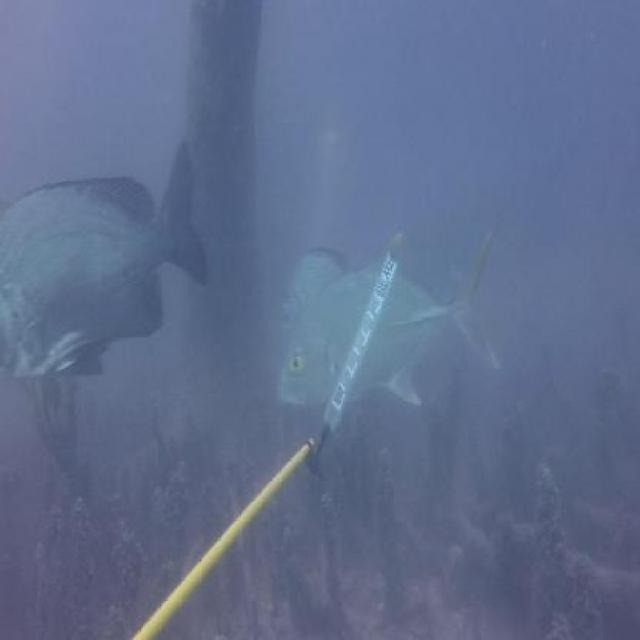Caranx: (273, 219, 504, 415)
acanthopagrus_palmaris: (0, 141, 215, 380), (276, 246, 352, 334)
